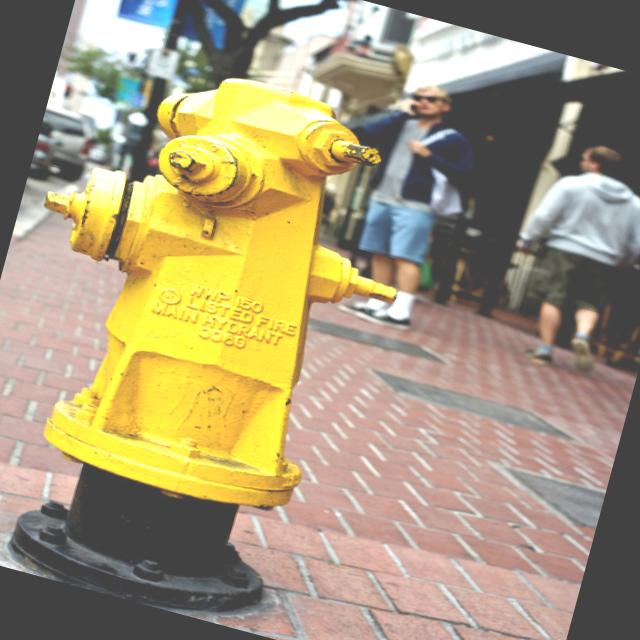Vehicle: (29, 102, 98, 183), (30, 104, 95, 179)
